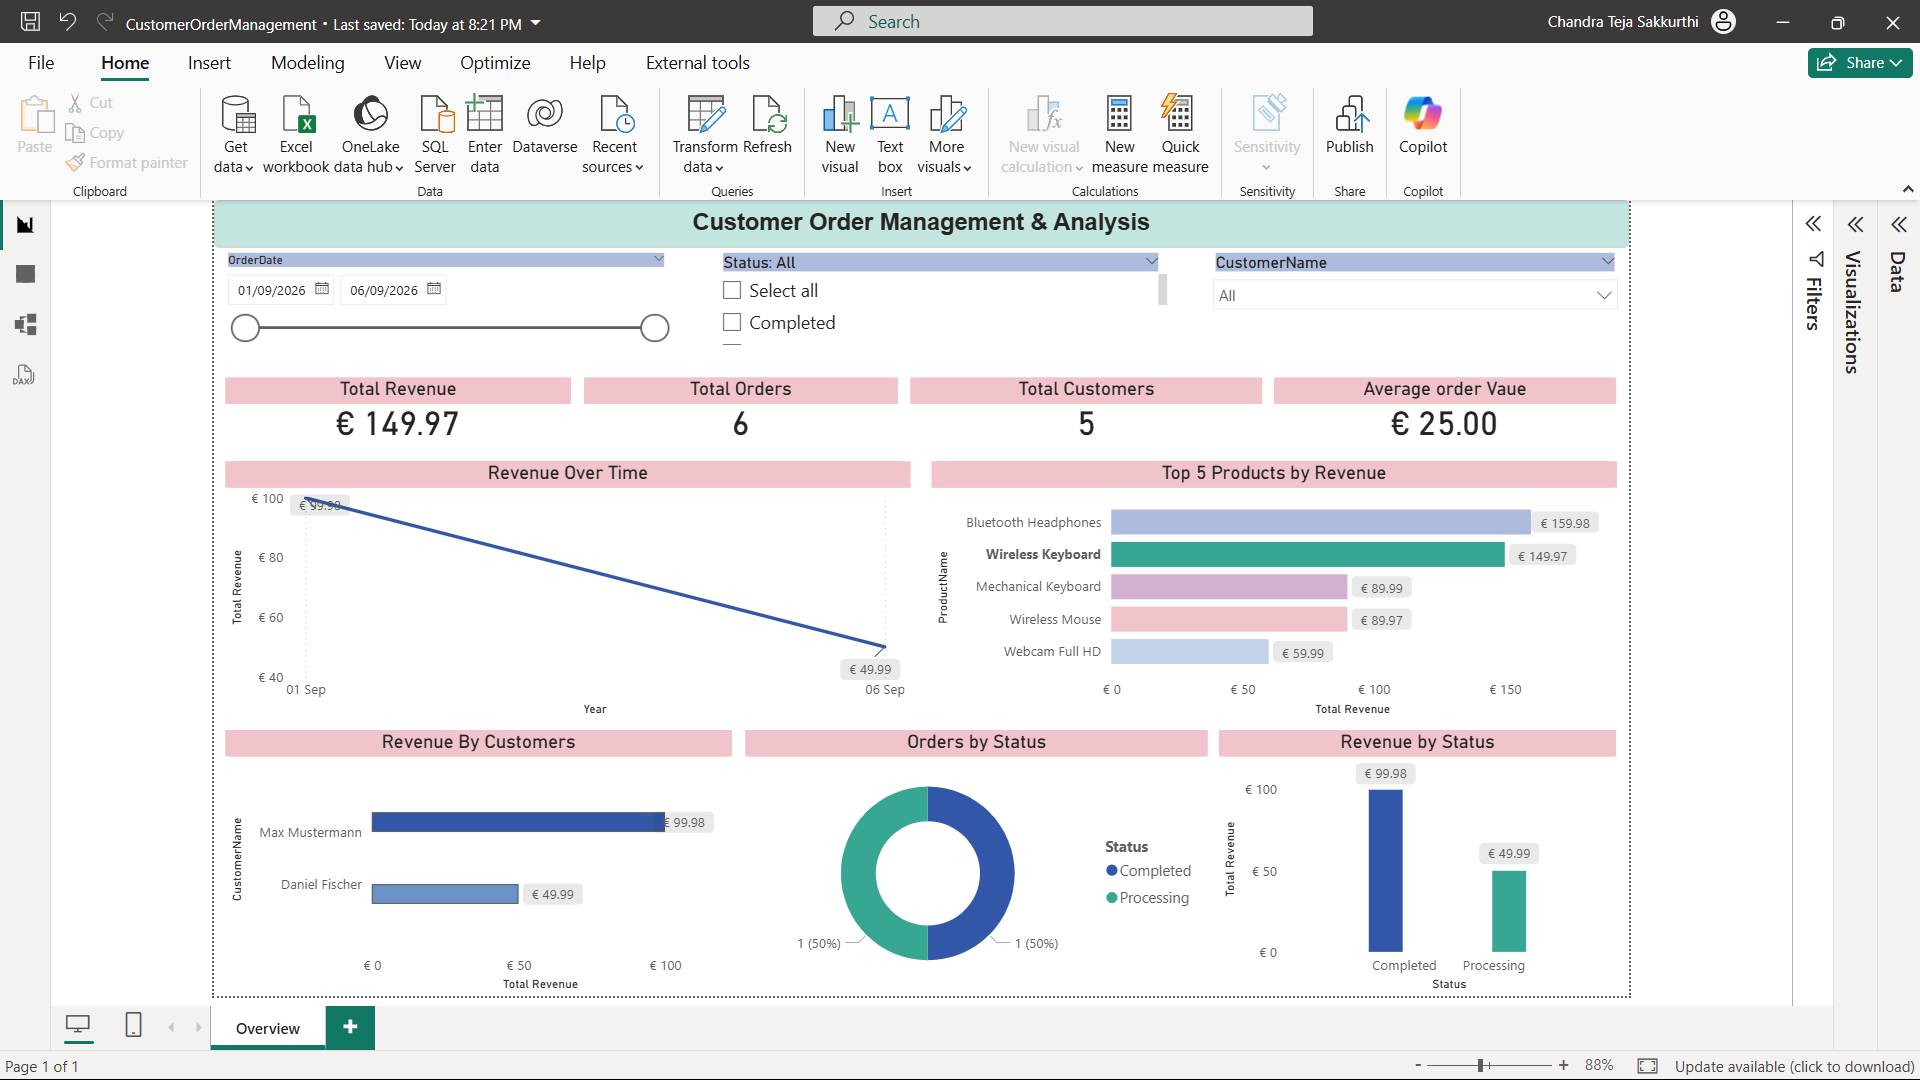

What the dashboard file says about the page in this screenshot:
{"tool":"powerbi","page":{"name":"Overview","canvas":[1280,720],"ordinal":0},"visuals":[{"type":"card","title":"Total Revenue","fields":{"Values":["Measures (2).Total Revenue"]},"box":[10.5,160.5,312.8,59.3],"z":0},{"type":"card","title":"Total Orders","fields":{"Values":["Measures (2).Total Orders"]},"box":[334.9,160.5,283.7,59.3],"z":1000},{"type":"card","title":"Total Customers","fields":{"Values":["Measures (2).Total Customers"]},"box":[630.2,160.5,318.6,59.3],"z":2000},{"type":"card","title":"Average order Vaue","fields":{"Values":["Measures (2).Average Order Value"]},"box":[959.3,160.5,309.3,59.3],"z":3000},{"type":"lineChart","title":"Revenue Over Time","fields":{"Y":["Measures (2).Total Revenue"],"Category":["Orders.OrderDate.Variation.Date Hierarchy.Year","Orders.OrderDate.Variation.Date Hierarchy.Quarter","Orders.OrderDate.Variation.Date Hierarchy.Month","Orders.OrderDate.Variation.Date Hierarchy.Day"]},"box":[10.5,236,619.8,234.9],"z":4000},{"type":"clusteredBarChart","title":"Revenue By Customers","fields":{"Category":["Customers.CustomerName"],"Y":["Measures (2).Total Revenue"],"Series":["Customers.CustomerID"]},"box":[10.5,479.1,458.1,240.7],"z":5000},{"type":"barChart","title":"Top 5 Products by Revenue","fields":{"Category":["Products.ProductName"],"Y":["Measures (2).Total Revenue"],"Series":["Products.ProductName"]},"box":[648.8,236,619.8,234.9],"z":6000},{"type":"slicer","title":"Date","fields":{"Values":["Orders.OrderDate"]},"box":[0,42.5,419.9,93.3],"z":7000},{"type":"slicer","fields":{"Values":["Orders.Status"]},"box":[447.7,43,419.8,93],"z":8000},{"type":"slicer","fields":{"Values":["Customers.CustomerName"]},"box":[893.3,42.5,387,93.3],"z":9000},{"type":"textbox","box":[0,0,1279.9,43],"z":10000},{"type":"clusteredColumnChart","title":"Revenue by Status","fields":{"Category":["Orders.Status"],"Y":["Measures (2).Total Revenue"],"Series":["Orders.Status"]},"box":[909.3,479.1,359.3,240.7],"z":11000},{"type":"donutChart","title":"Orders by Status","fields":{"Category":["Orders.Status"],"Y":["Measures (2).Total Orders by Product"]},"box":[480.2,479.1,418.6,240.7],"z":12000}]}

Visuals, with their boxes on the page's 1280x720 design canvas (x1, y1, x2, y2). These are canvas units, not pixel positions in the 1920x1080 screenshot, which may show the page scaled, cropped or inside an application window:
"Total Revenue" card: bbox(10, 160, 323, 220)
"Total Orders" card: bbox(335, 160, 619, 220)
"Total Customers" card: bbox(630, 160, 949, 220)
"Average order Vaue" card: bbox(959, 160, 1269, 220)
"Revenue Over Time" lineChart: bbox(10, 236, 630, 471)
"Revenue By Customers" clusteredBarChart: bbox(10, 479, 469, 720)
"Top 5 Products by Revenue" barChart: bbox(649, 236, 1269, 471)
"Date" slicer: bbox(0, 42, 420, 136)
slicer - Orders.Status: bbox(448, 43, 868, 136)
slicer - Customers.CustomerName: bbox(893, 42, 1280, 136)
textbox: bbox(0, 0, 1280, 43)
"Revenue by Status" clusteredColumnChart: bbox(909, 479, 1269, 720)
"Orders by Status" donutChart: bbox(480, 479, 899, 720)
